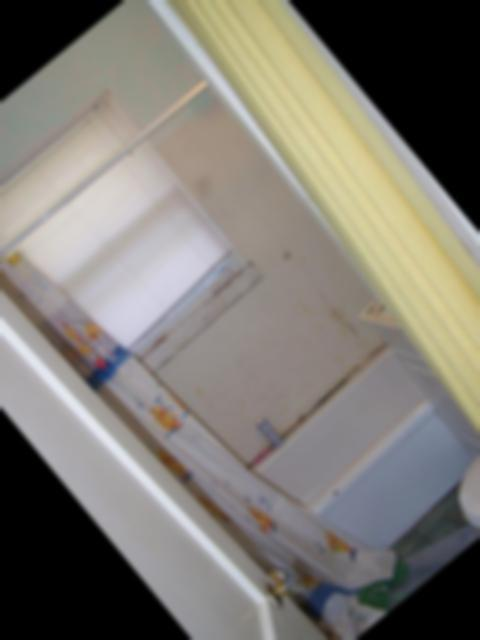Sanitario: (419, 368, 480, 538)
